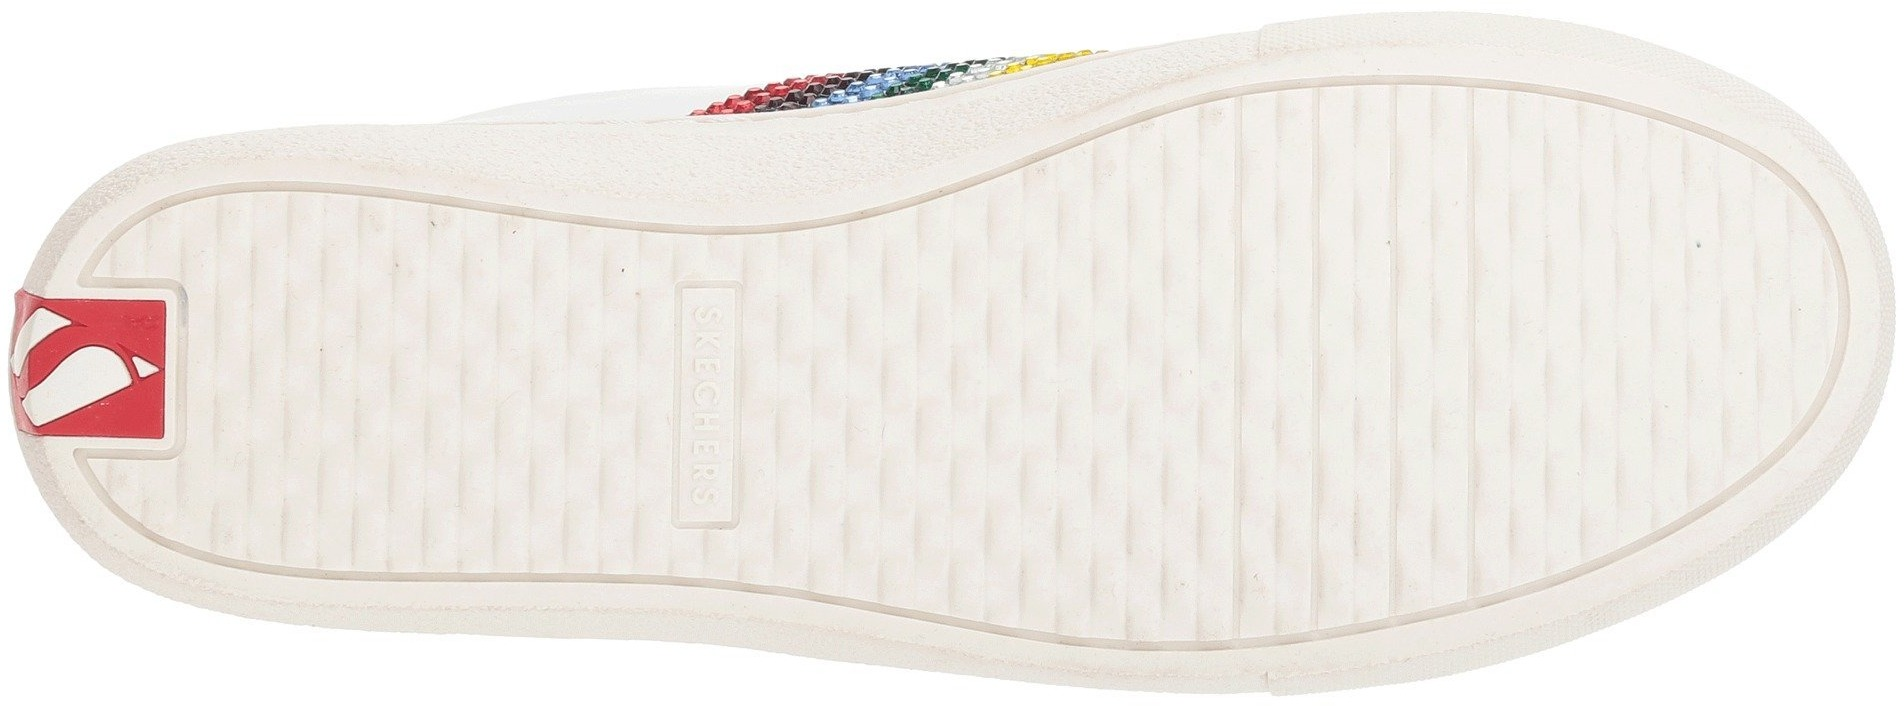quad: (994, 198, 1463, 622), (500, 244, 855, 614), (11, 269, 236, 504)
text: (500, 244, 855, 614)
triangle: (11, 269, 236, 504)
